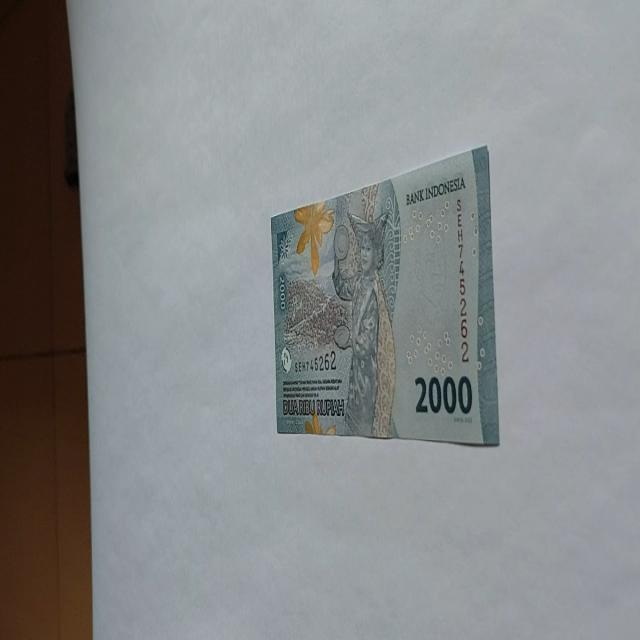dua ribu rupiah: (270, 143, 500, 446), (331, 209, 396, 437)
